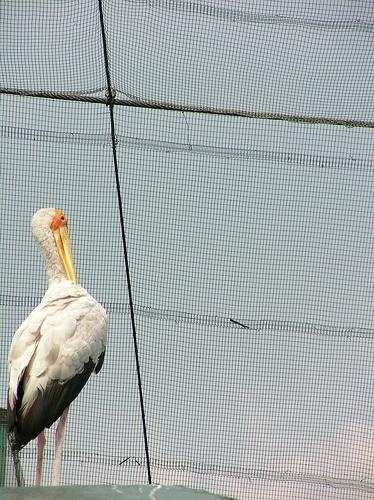bird: (7, 206, 111, 489)
